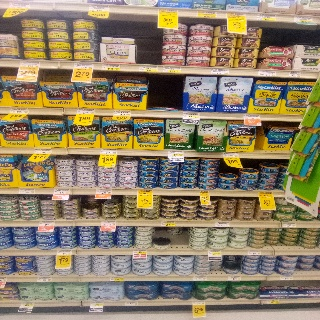All PRICE TAGS: (258, 13, 277, 21), (9, 2, 30, 9), (89, 5, 109, 12), (197, 11, 217, 18), (10, 107, 29, 114), (20, 61, 39, 68), (159, 8, 178, 15), (294, 16, 313, 23), (228, 12, 245, 19), (139, 65, 158, 71), (18, 188, 36, 194), (34, 148, 52, 154), (75, 63, 93, 69), (102, 64, 120, 70), (211, 69, 229, 75), (100, 149, 117, 155), (183, 112, 200, 118), (114, 110, 131, 116), (53, 189, 70, 195), (164, 66, 181, 72), (138, 189, 153, 195), (223, 152, 238, 158), (259, 71, 276, 76), (77, 109, 94, 114), (193, 275, 207, 281), (96, 189, 112, 194), (168, 151, 184, 156), (283, 222, 296, 228), (215, 221, 230, 226), (161, 221, 176, 226), (259, 192, 274, 197), (37, 277, 52, 282), (57, 250, 72, 255), (207, 250, 221, 255), (133, 249, 147, 254), (20, 302, 34, 307), (110, 276, 124, 281), (40, 221, 54, 226), (243, 115, 260, 119), (290, 71, 301, 77), (192, 300, 205, 305), (125, 301, 138, 306), (228, 275, 241, 280), (248, 250, 261, 255), (280, 275, 293, 280), (101, 221, 117, 225), (91, 302, 103, 307), (268, 299, 280, 304), (199, 190, 209, 195), (0, 277, 7, 282)
